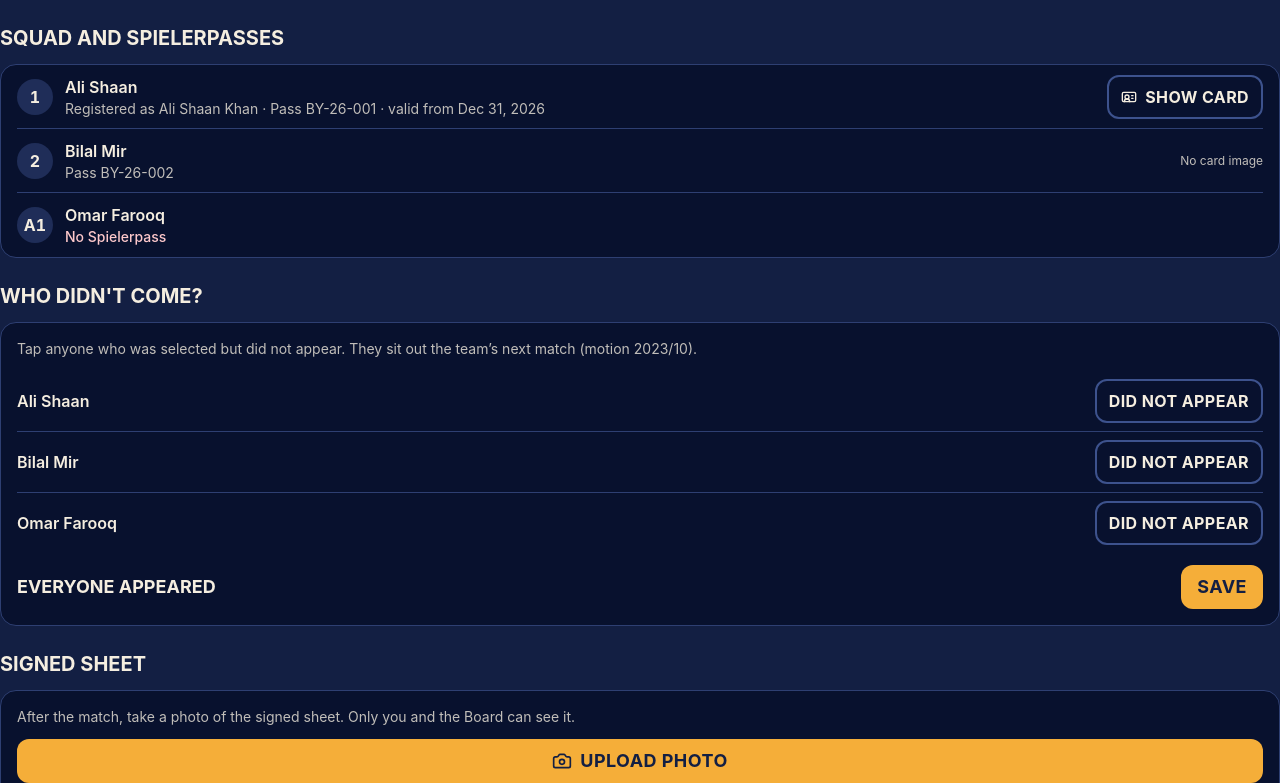
Test: recording no-shows › starts with nobody marked and records who did not appear
(page scrolled)
Expected: the text "Everyone appeared" is shown, [17,573,216,601]
Click the button with aria-label "Mark Bilal Mir as absent" at coordinates (1179, 462), box [1095,440,1263,484]
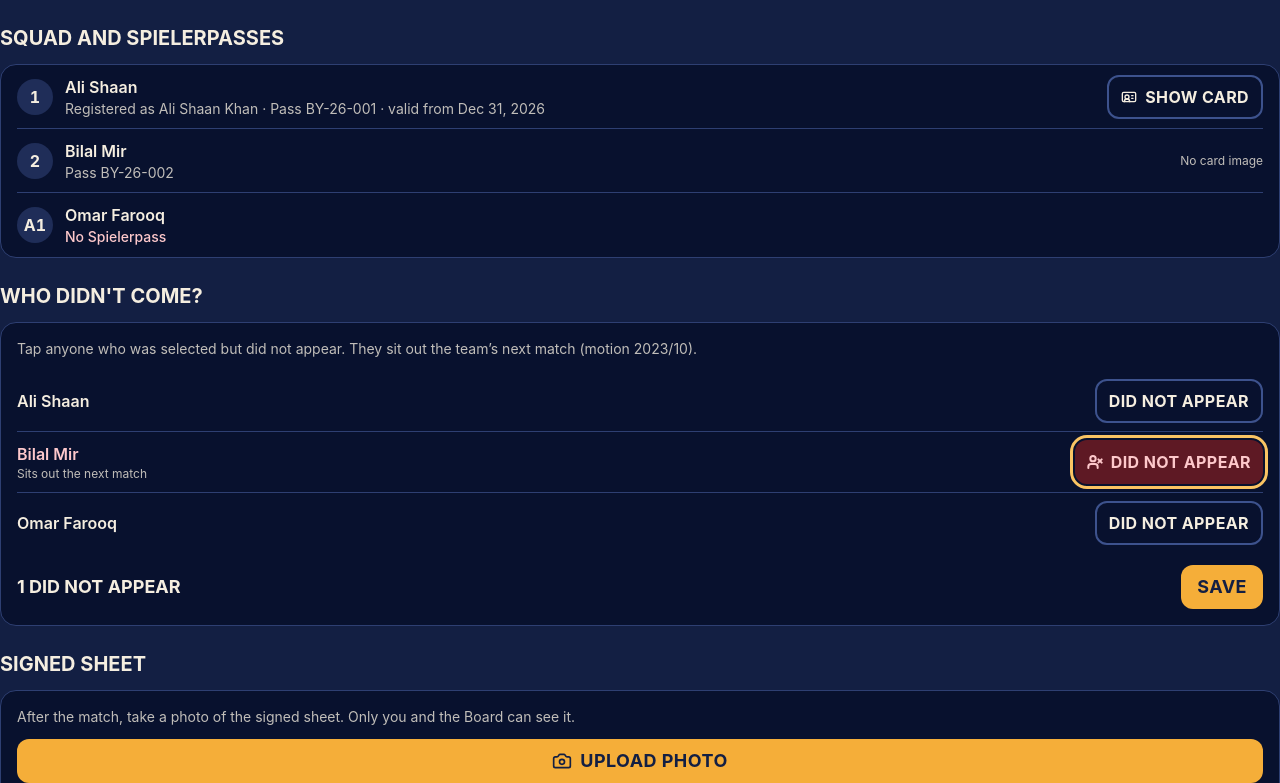
Expected: the text "1 did not appear" is shown, [17,573,181,601]
Expected: the text "Sits out the next match" is shown, [17,466,147,481]
Click the button "Save" at coordinates (1222, 587), box [1181,565,1263,609]
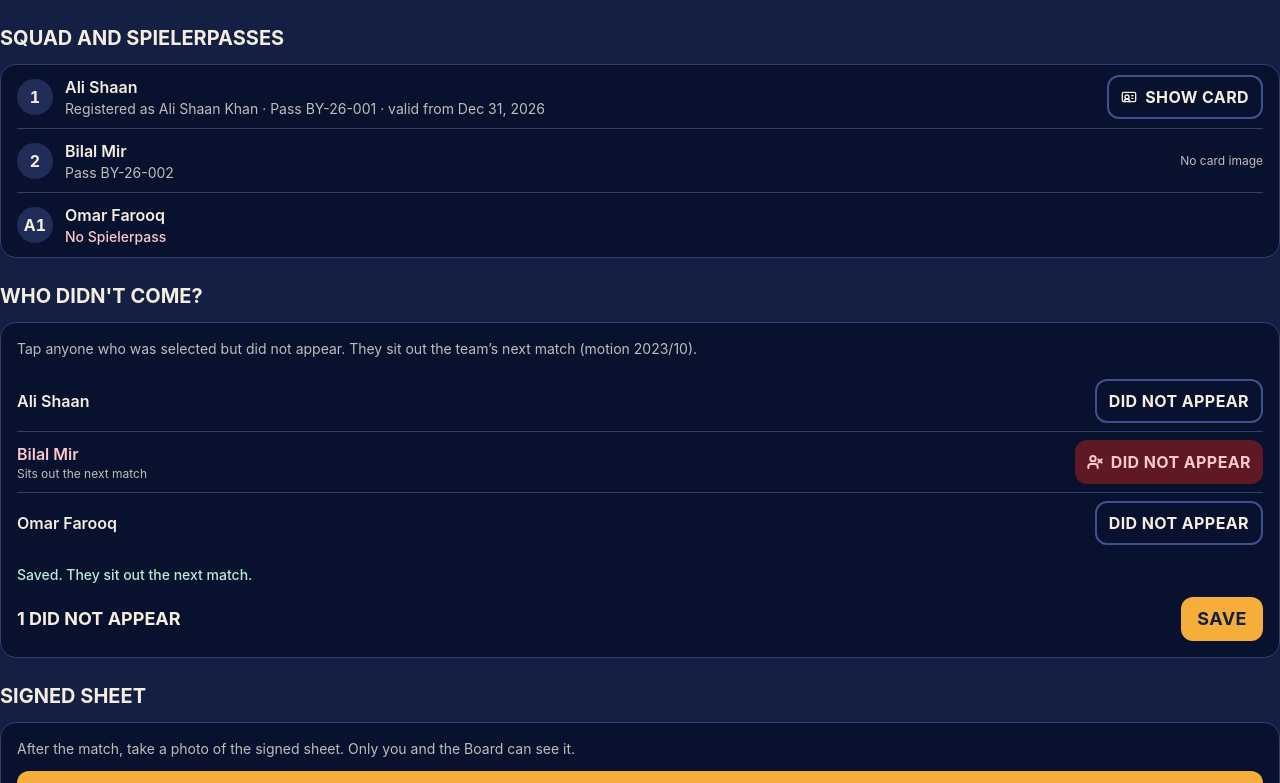
Expected: the message shows "They sit out the next match.", [17,566,252,583]
